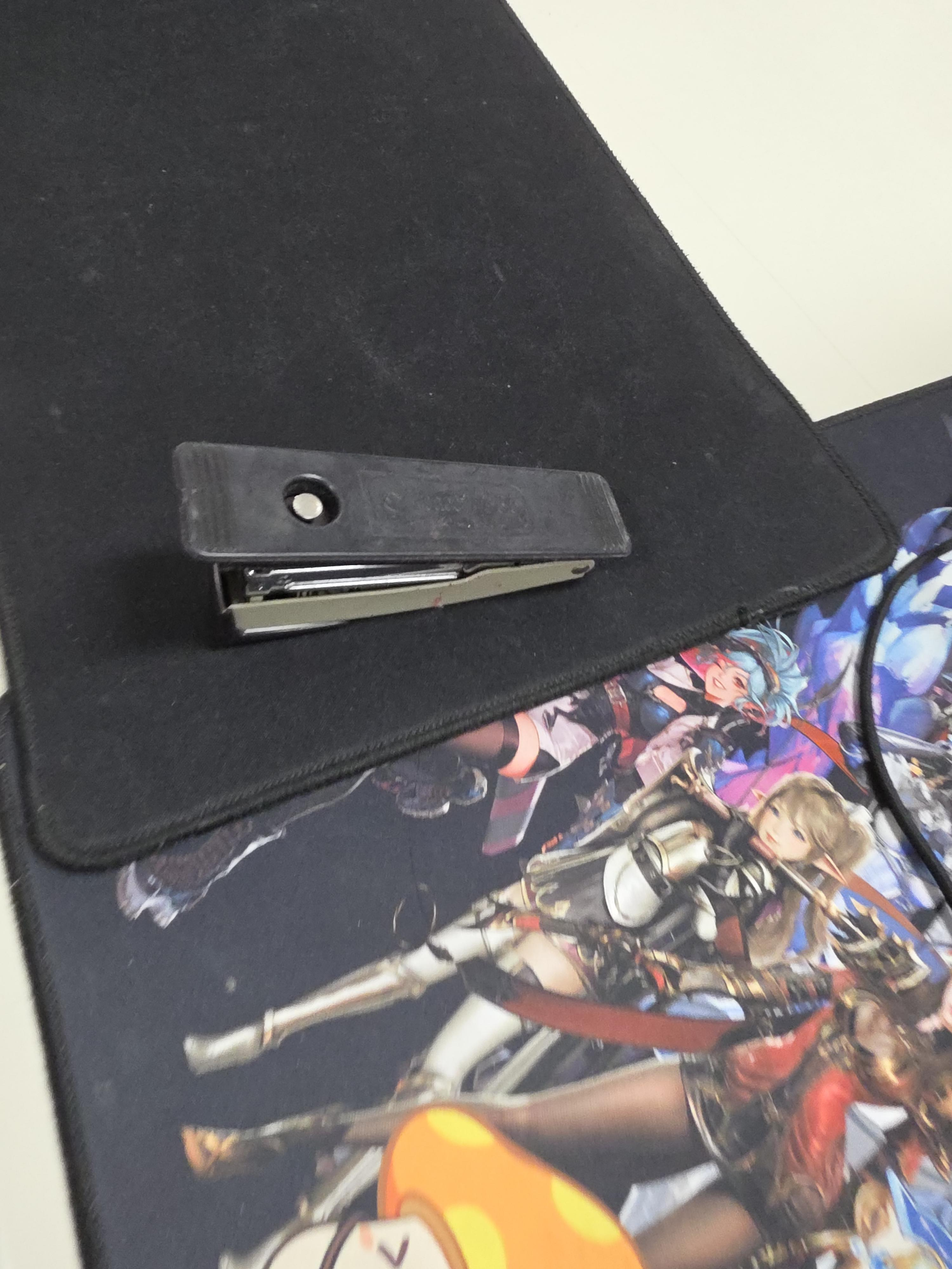stapler: (170, 441, 630, 639)
